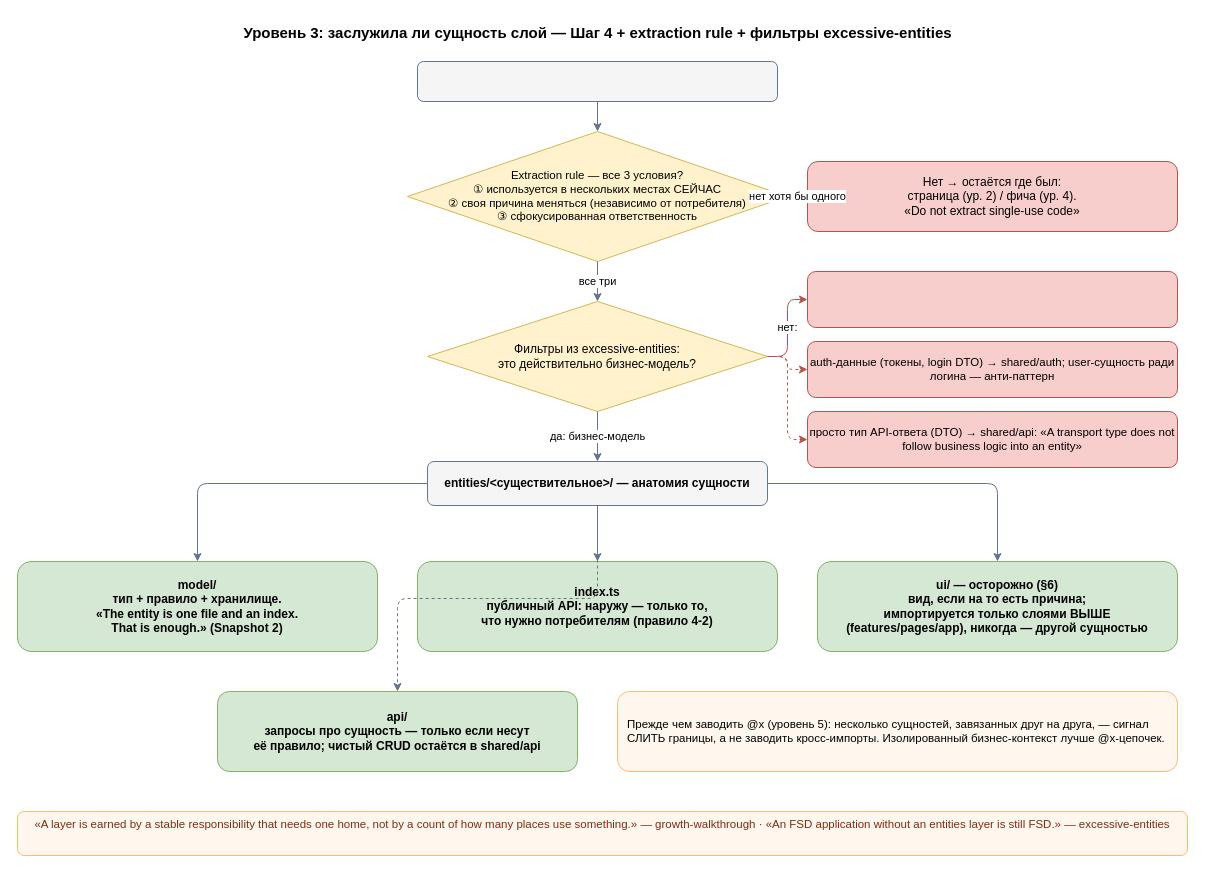
This 1205x873 diagram has some shape labels left out. Here are the shapes that lost their labels. From the top down, the centre of each, then its label:
At (x=597, y=81): "Кандидат на entities: «общий» бизнес-код".
At (x=992, y=299): "CRUD без бизнес-смысла → shared/api (один потребитель — в слайс)".
